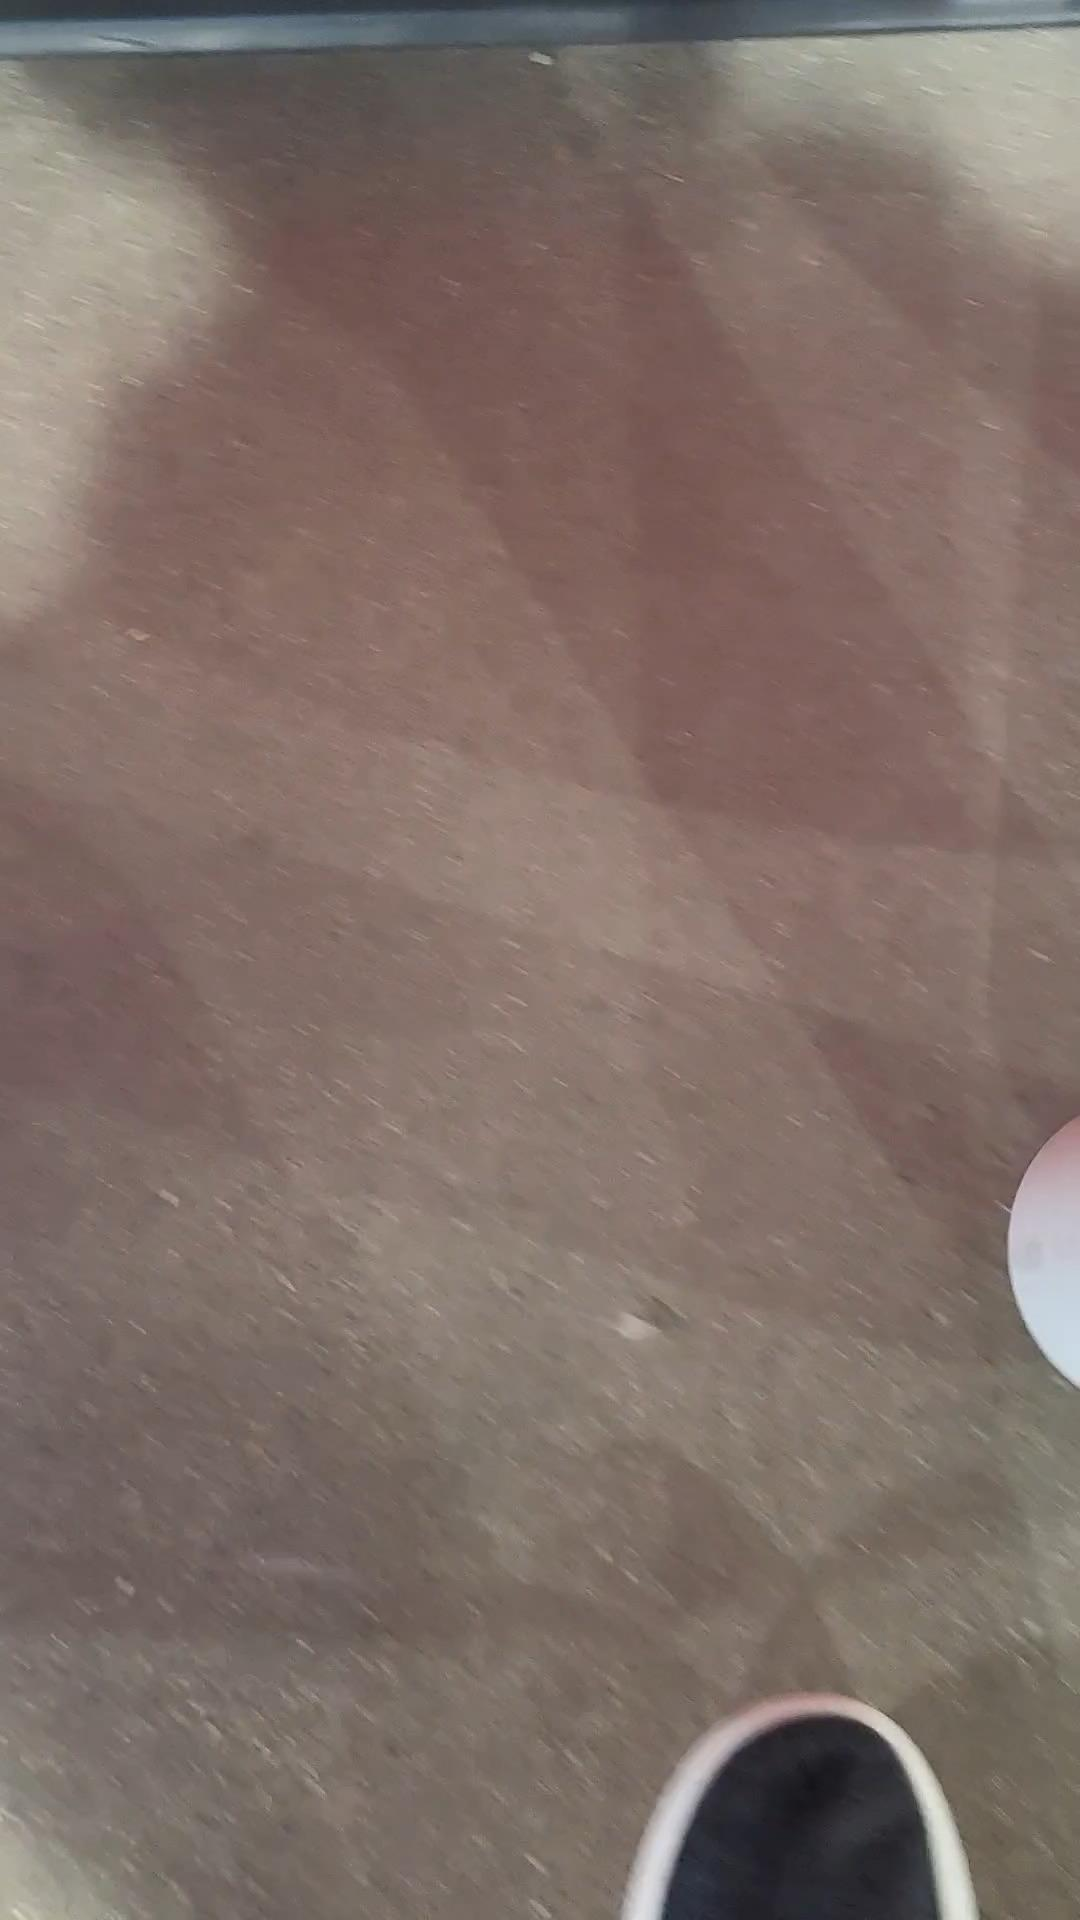coral: (1006, 1062, 1080, 1424)
